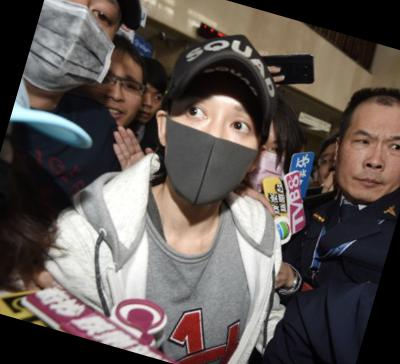with_mask: (147, 79, 271, 217), (242, 134, 297, 202)
without_mask: (327, 116, 400, 212), (80, 62, 151, 137), (130, 84, 164, 129)
